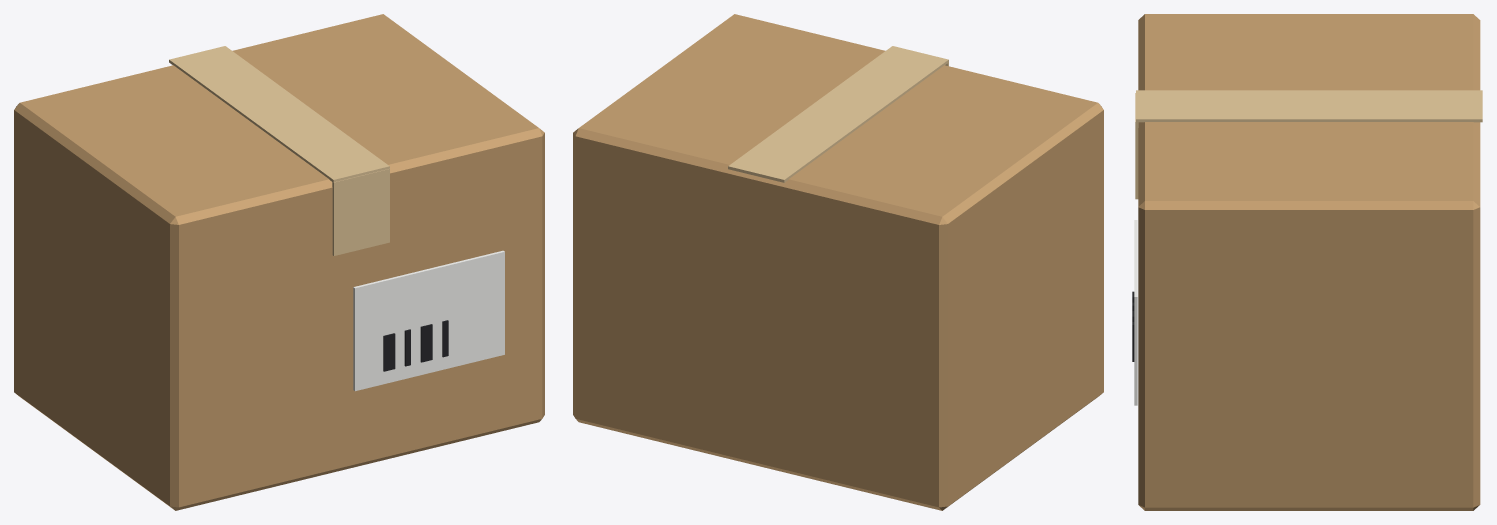
File: package_courier.glb
The picture shows the model from 3 angles, left to right: view 1: azimuth 30°, elevation 25°; view 2: azimuth 150°, elevation 25°; view 3: azimuth 270°, elevation 25°; orthographic projection. The views are drawn at different scales.
Parts seen in each view (by area): view 1: package_courier; view 2: package_courier; view 3: package_courier.
Part boxes in pixels (box(x1,y1,x2,y2)): package_courier: box(14, 14, 544, 510); package_courier: box(573, 14, 1103, 510); package_courier: box(1132, 14, 1482, 510).
Bounding box in the file's own units: 0.4 × 0.3025 × 0.307.
1 material, 1 textured.
